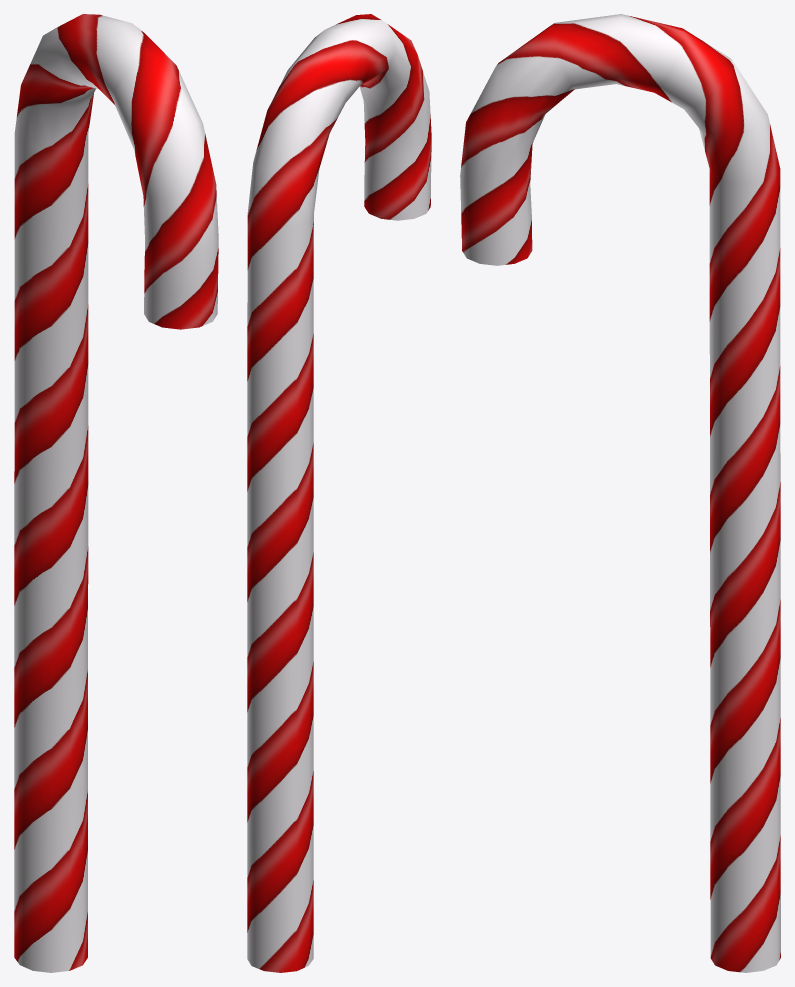
Rendered from Cane.obj.
3 renders of one model, left to right at view 1: azimuth 30°, elevation 25°; view 2: azimuth 150°, elevation 25°; view 3: azimuth 270°, elevation 25°, orthographic. The views are drawn at different scales.
Bounding box in the file's own units: 17.79 × 261 × 80.73.
1 material, 1 textured.
